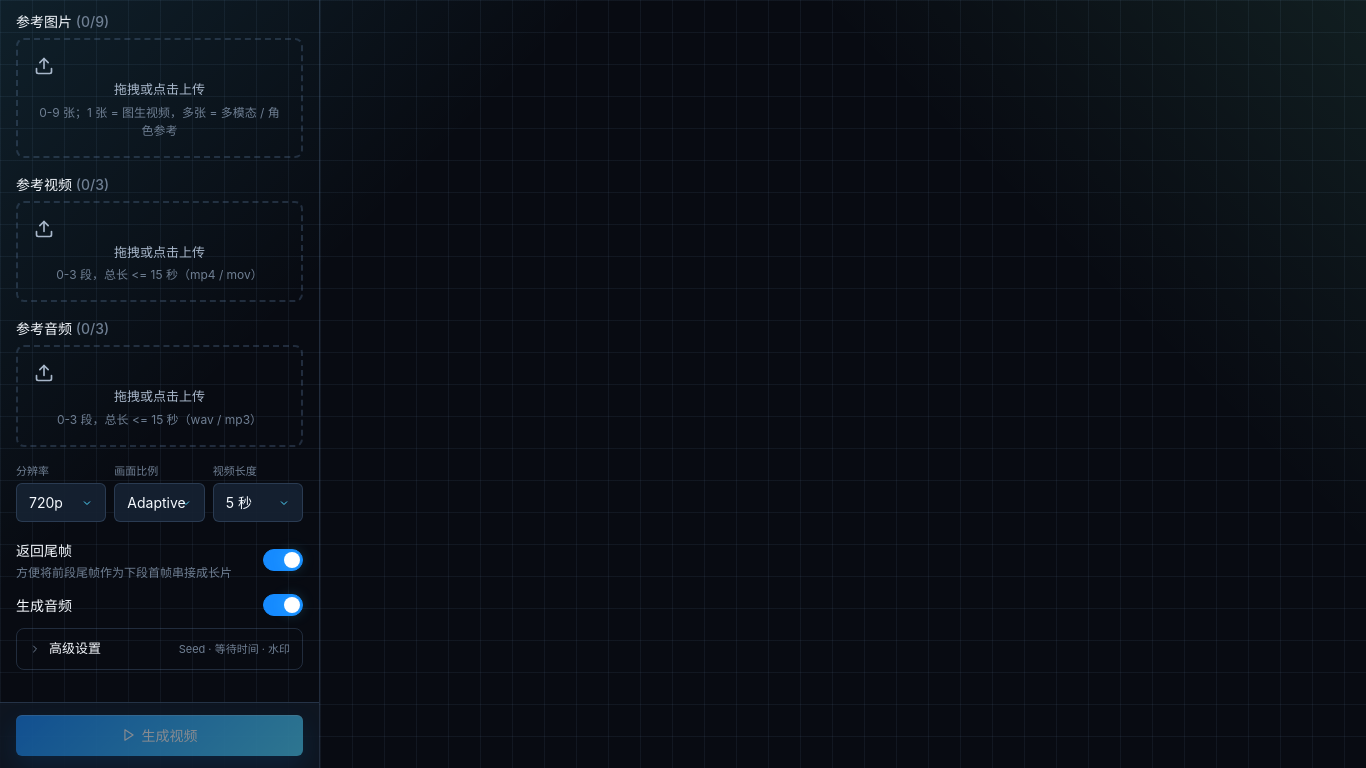
Test: execution_expires_after dropdown › renders with seven preset options and 3600 selected by default
(page scrolled)
Click the button "高级设置 Seed · 等待时间 · 水印" at [75, 648], box left=17, top=629, right=302, bottom=668
(page scrolled)
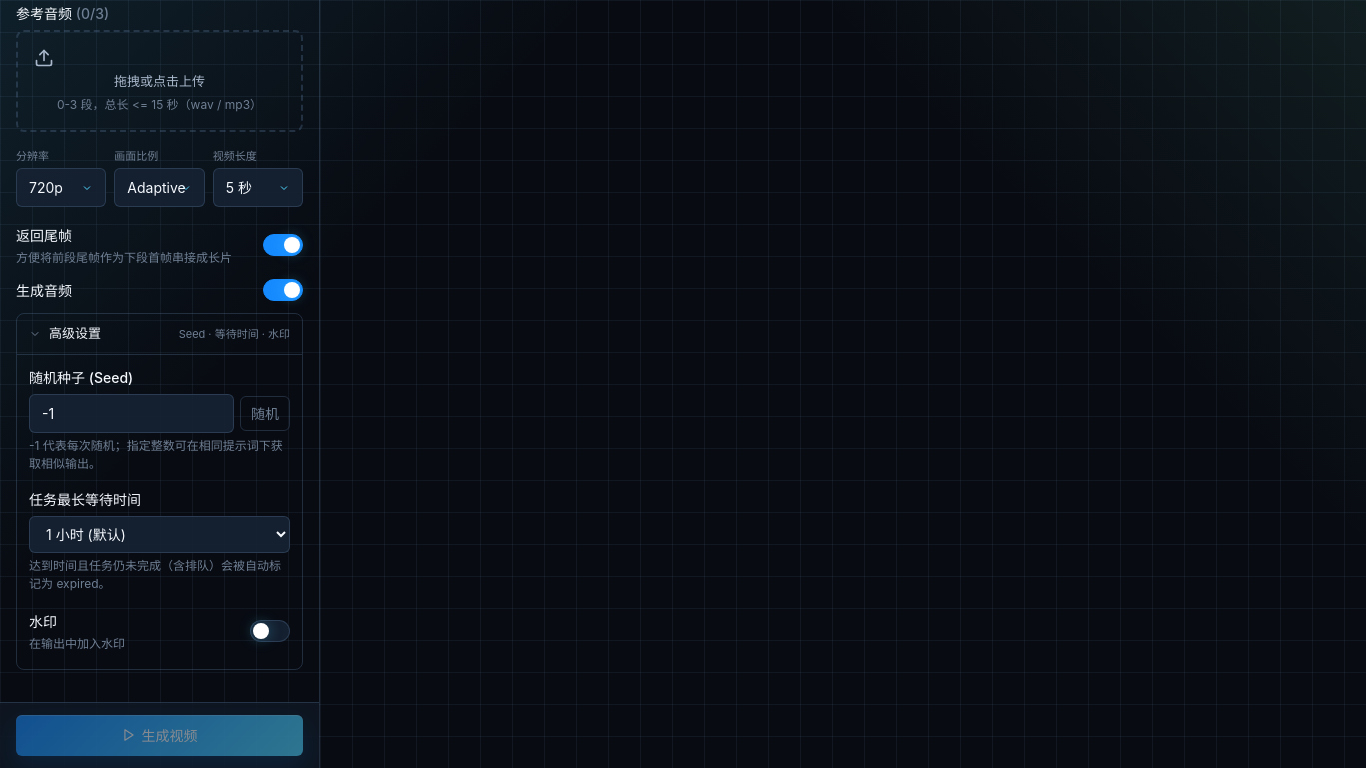
Expected: the dropdown labelled "任务最长等待时间" shows "1 小时 (默认)", left=29, top=516, right=290, bottom=552
